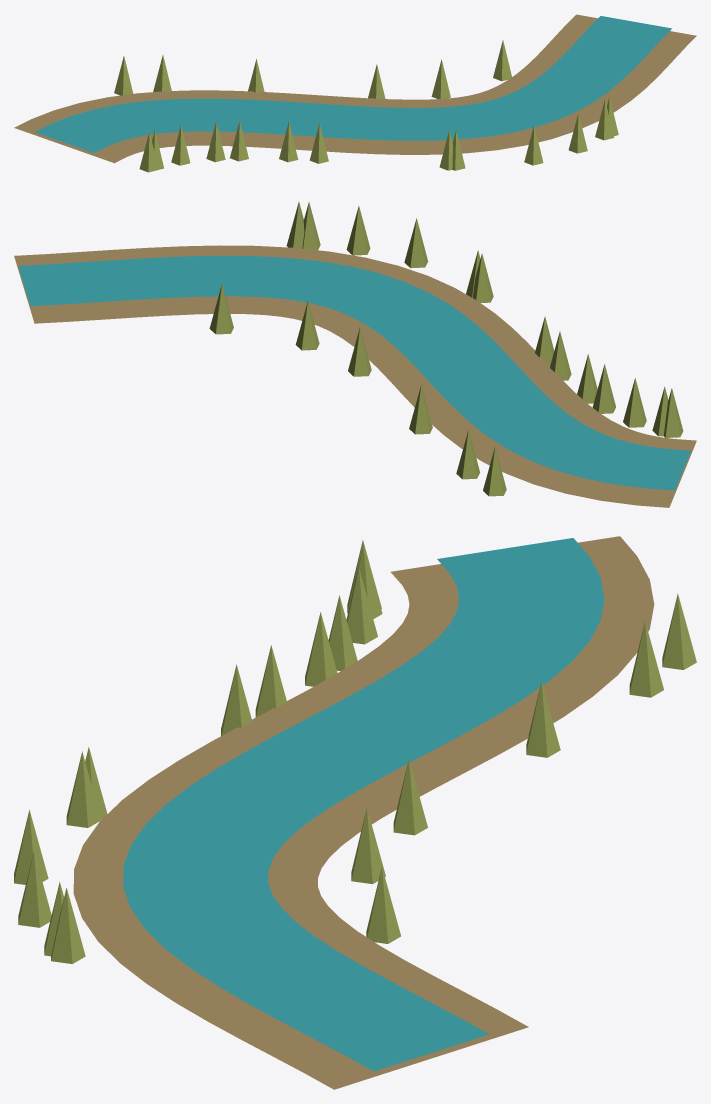
File: FEATURE_FLOODPLAINS_v01.fbx
3 renders of one model, top to bottom at view 1: azimuth 30°, elevation 25°; view 2: azimuth 150°, elevation 25°; view 3: azimuth 270°, elevation 25°, orthographic. The views are drawn at different scales.
Parts seen in each view (by area): view 1: River_channel.001, Alluvial_banks.001, Riparian_grass.036, Riparian_grass.021, Riparian_grass.023, Riparian_grass.039, Riparian_grass.022, Riparian_grass.032, Riparian_grass.035, Riparian_grass.029, Riparian_grass.031, Riparian_grass.038 (+7 smaller); view 2: River_channel.001, Alluvial_banks.001, Riparian_grass.025, Riparian_grass.028, Riparian_grass.021, Riparian_grass.026, Riparian_grass.035, Riparian_grass.036, Riparian_grass.030, Riparian_grass.034, Riparian_grass.032, Riparian_grass.020 (+7 smaller); view 3: River_channel.001, Alluvial_banks.001, Riparian_grass.024, Riparian_grass.030, Riparian_grass.028, Riparian_grass.026, Riparian_grass.034, Riparian_grass.036, Riparian_grass.037, Riparian_grass.025, Riparian_grass.027, Riparian_grass.035 (+5 smaller).
Boxes of the visible parts, x1,y1,x2,y2 form: River_channel.001: (35, 16, 671, 152); Alluvial_banks.001: (14, 14, 696, 163); Riparian_grass.036: (568, 112, 587, 153); Riparian_grass.021: (524, 124, 543, 165); Riparian_grass.023: (279, 122, 298, 162); Riparian_grass.039: (139, 131, 158, 172); Riparian_grass.022: (309, 123, 328, 163); Riparian_grass.032: (206, 121, 225, 162); Riparian_grass.035: (171, 124, 190, 165); Riparian_grass.029: (493, 40, 511, 81); Riparian_grass.031: (595, 100, 614, 140); Riparian_grass.038: (230, 121, 248, 161); River_channel.001: (18, 255, 690, 490); Alluvial_banks.001: (14, 245, 696, 507); Riparian_grass.025: (295, 301, 319, 350); Riparian_grass.028: (483, 446, 506, 496); Riparian_grass.021: (404, 218, 428, 268); Riparian_grass.026: (348, 327, 371, 376); Riparian_grass.035: (623, 378, 646, 427); Riparian_grass.036: (346, 206, 370, 255); Riparian_grass.030: (456, 429, 479, 479); Riparian_grass.034: (409, 384, 432, 434); Riparian_grass.032: (592, 364, 615, 413); Riparian_grass.020: (473, 253, 493, 302); River_channel.001: (123, 538, 604, 1071); Alluvial_banks.001: (73, 536, 654, 1089); Riparian_grass.024: (66, 751, 100, 827); Riparian_grass.030: (629, 621, 663, 697); Riparian_grass.028: (662, 593, 696, 669); Riparian_grass.026: (393, 759, 427, 835); Riparian_grass.034: (526, 681, 560, 757); Riparian_grass.036: (18, 851, 51, 927); Riparian_grass.037: (51, 888, 85, 963); Riparian_grass.025: (351, 808, 385, 884); Riparian_grass.027: (367, 867, 400, 943); Riparian_grass.035: (346, 568, 377, 644).
Bounding box in the file's own units: 171 × 10 × 89.25.
